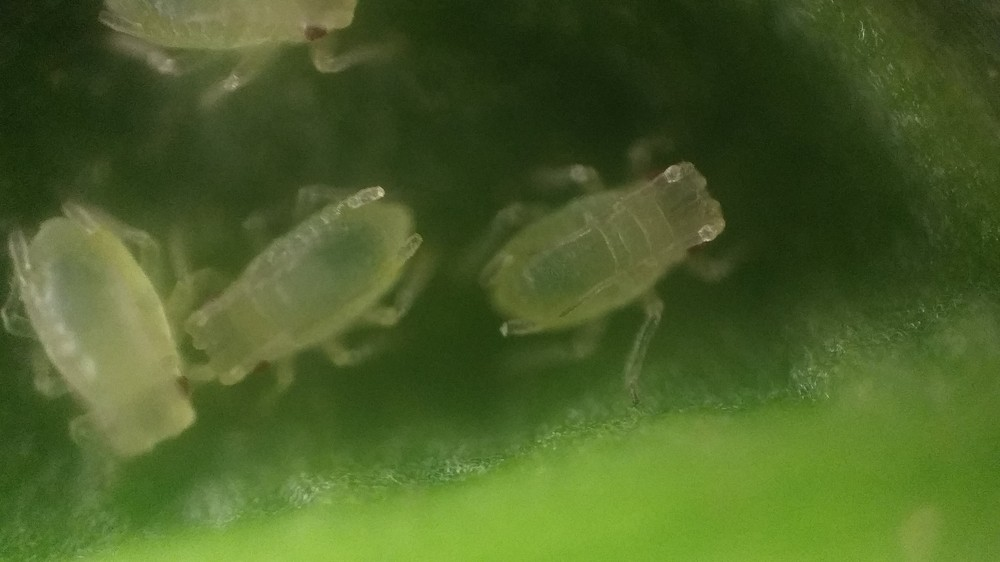Pulgon: (454, 117, 768, 416), (177, 166, 445, 413), (4, 192, 230, 473), (94, 1, 432, 105)
